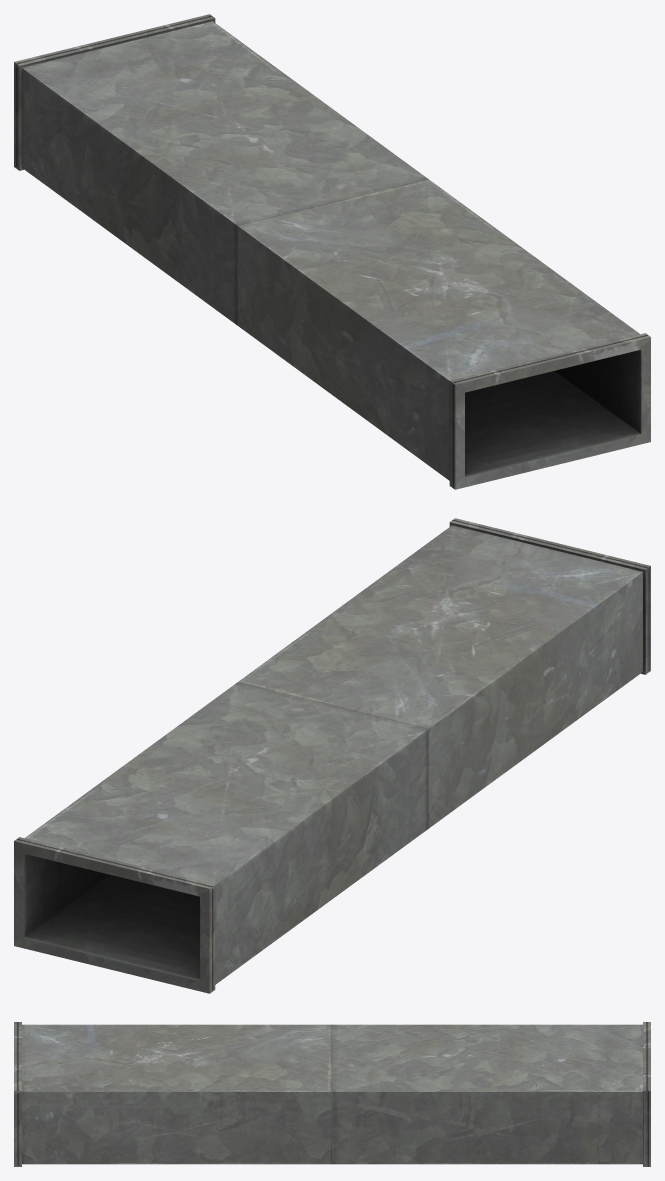
The model's file is AirDuct01.FBX.
The picture shows the model from 3 angles, top to bottom: view 1: azimuth 30°, elevation 25°; view 2: azimuth 150°, elevation 25°; view 3: azimuth 270°, elevation 25°; orthographic projection. The views are drawn at different scales.
Parts seen in each view (by area): view 1: AirDuct01; view 2: AirDuct01; view 3: AirDuct01.
Boxes of the visible parts, x1,y1,x2,y2 form: AirDuct01: (14, 14, 650, 489); AirDuct01: (14, 518, 650, 993); AirDuct01: (14, 1022, 650, 1166).
Size of the model in its own units: 1.1 by 0.5555 by 4.
